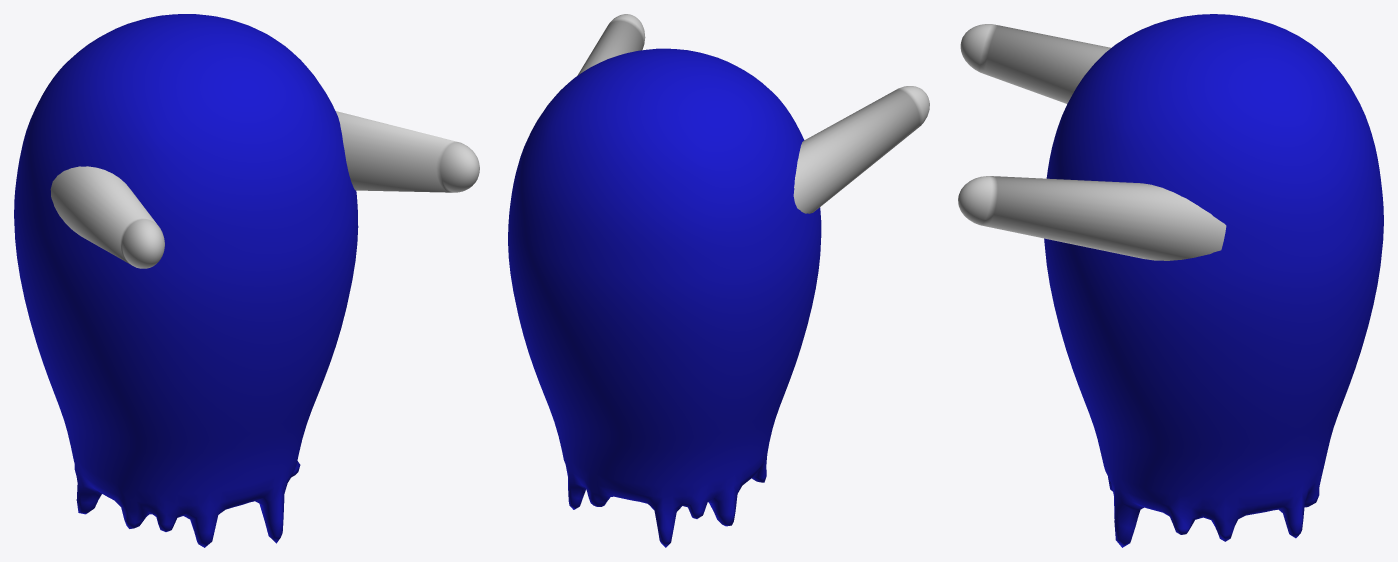
Rendered from afterThrow_000012.obj.
The picture shows the model from 3 angles, left to right: view 1: azimuth 30°, elevation 25°; view 2: azimuth 150°, elevation 25°; view 3: azimuth 270°, elevation 25°; orthographic projection. The views are drawn at different scales.
Visible parts, largest first — view 1: Cube, Sphere, Sphere.001; view 2: Cube, Sphere.001, Sphere; view 3: Cube, Sphere, Sphere.001.
Part boxes in pixels (x1,y1,x2,y2): Cube: (14,14,358,547); Sphere: (335,111,479,192); Sphere.001: (50,166,164,268); Cube: (508,48,821,547); Sphere.001: (793,86,929,213); Sphere: (577,14,645,75); Cube: (1044,14,1383,547); Sphere: (958,176,1226,260); Sphere.001: (960,24,1110,103).
Bounding box in the file's own units: 0.3414 × 0.4582 × 0.3576.
